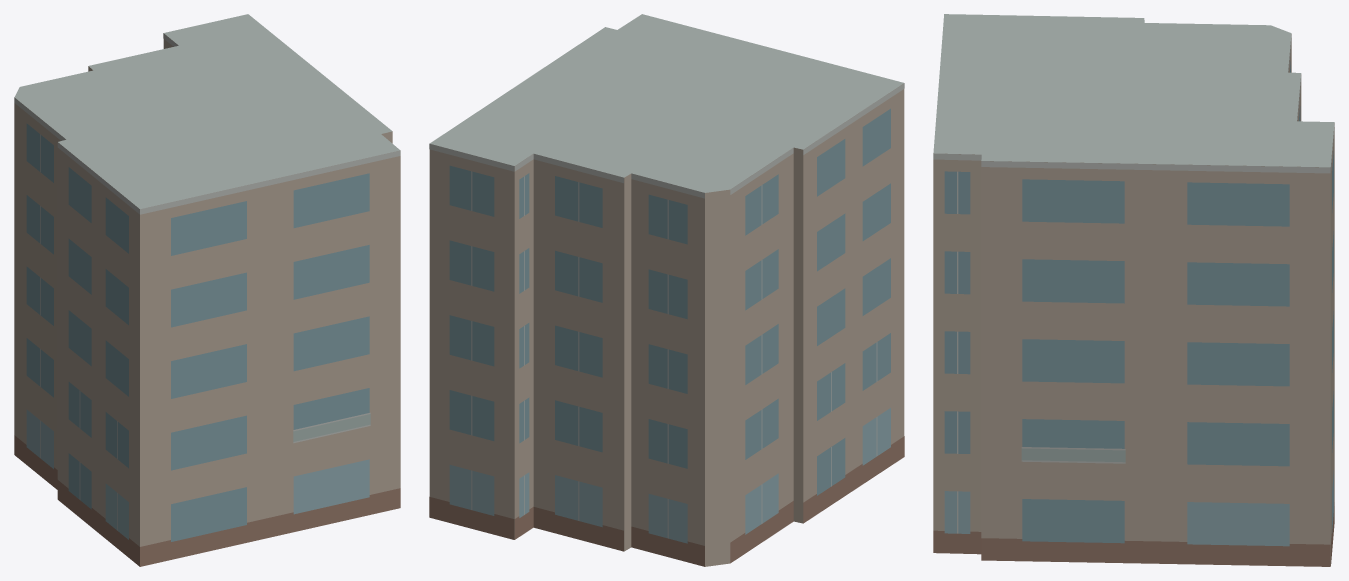
The model's file is survey-upis-32668348.glb.
The picture shows the model from 3 angles, left to right: view 1: azimuth 30°, elevation 25°; view 2: azimuth 150°, elevation 25°; view 3: azimuth 270°, elevation 25°; orthographic projection. The views are drawn at different scales.
Visible parts, largest first — view 1: survey-upis-32668348.tmp; view 2: survey-upis-32668348.tmp; view 3: survey-upis-32668348.tmp.
Part boxes in pixels (x1,y1,x2,y2): survey-upis-32668348.tmp: [14, 14, 400, 566]; survey-upis-32668348.tmp: [429, 14, 904, 566]; survey-upis-32668348.tmp: [933, 14, 1334, 566].
Size of the model in its own units: 13.15 by 15.96 by 14.53.
